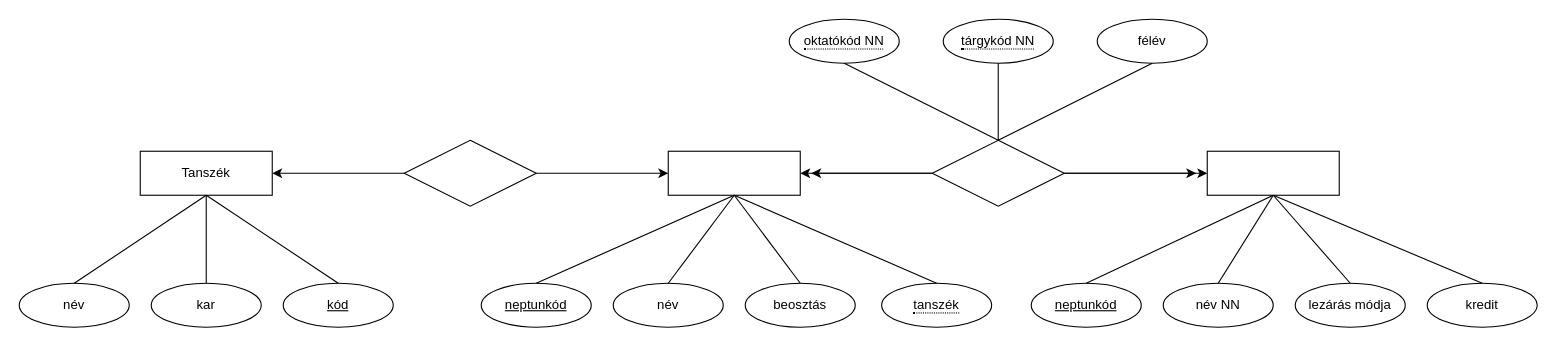
Image size: 1557x347. Some labels were removed from this diagram. Here are the shapes that lost their labels. From the top down, the centre of each, then its label:
At point (469, 172): "Tanszék-Oktató".
At point (733, 172): "Oktató".
At point (997, 172): "Oktató-Tantárgy".
At point (1272, 172): "Tantárgy".
